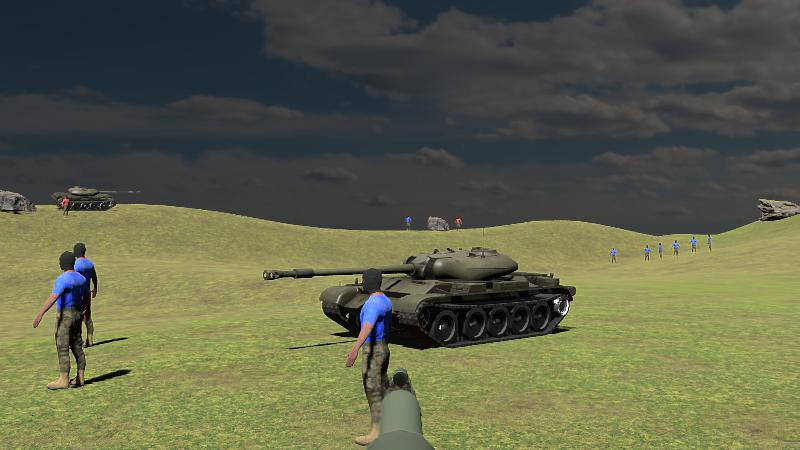Human: (346, 267, 394, 446), (33, 249, 92, 390), (53, 243, 99, 349)
Tank: (262, 245, 575, 347), (52, 187, 140, 212)
